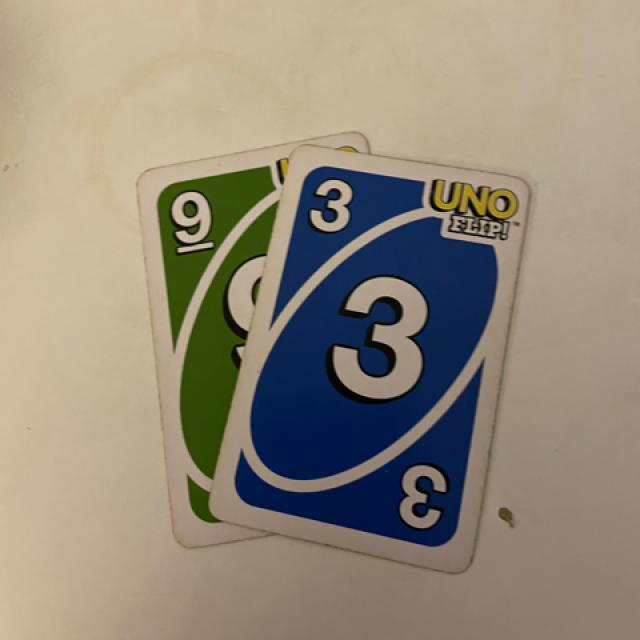lblue-3: (300, 164, 366, 254)
lgreen-9: (153, 177, 228, 264)
